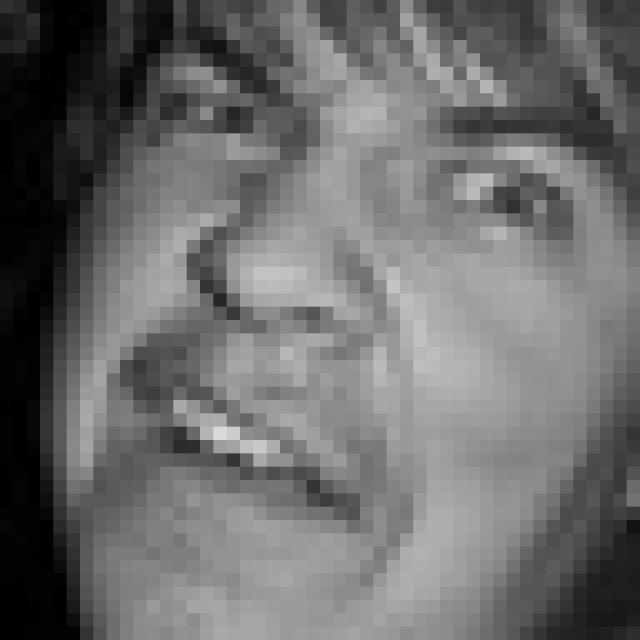disgust: (103, 26, 613, 556)
